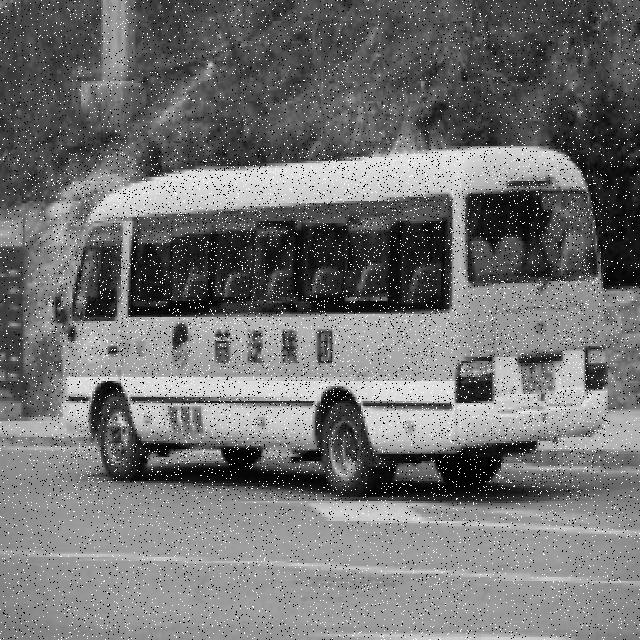Bus- Small: (50, 147, 609, 499)
